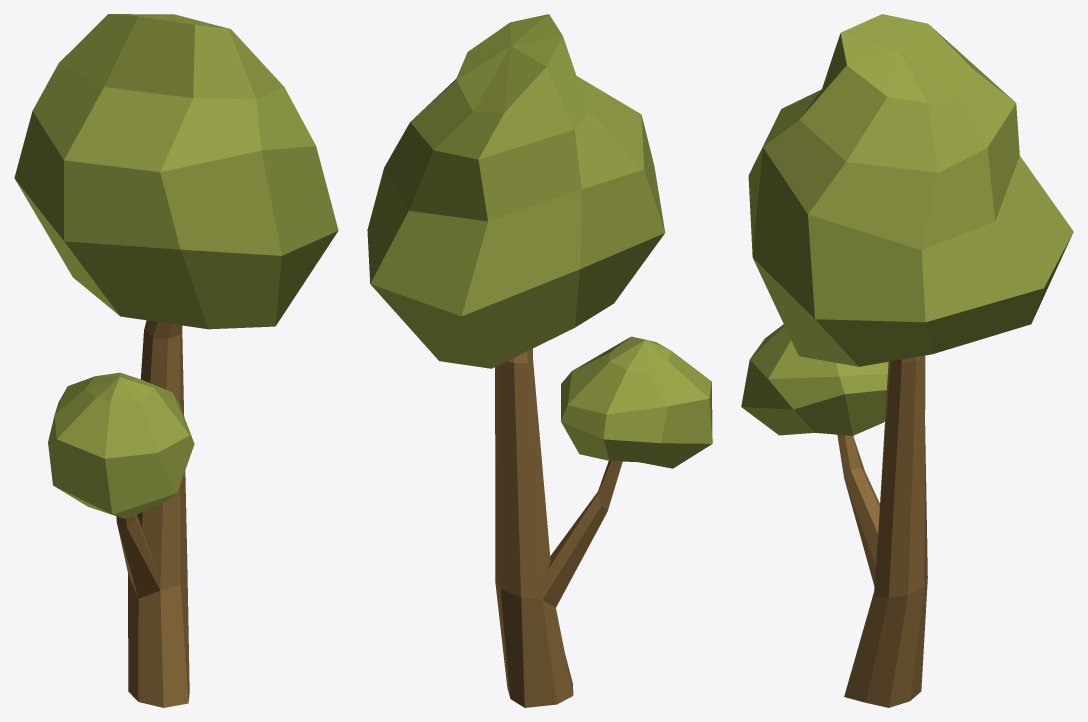
File: Tree_oak_1.fbx
The picture shows the model from 3 angles, left to right: view 1: azimuth 30°, elevation 25°; view 2: azimuth 150°, elevation 25°; view 3: azimuth 270°, elevation 25°; orthographic projection. The views are drawn at different scales.
Visible parts, largest first — view 1: Tree_oak_1; view 2: Tree_oak_1; view 3: Tree_oak_1.
Boxes of the visible parts, left/top/right/bottom form: Tree_oak_1: left=14, top=14, right=338, bottom=707; Tree_oak_1: left=367, top=14, right=712, bottom=707; Tree_oak_1: left=741, top=14, right=1073, bottom=707.
Bounding box in the file's own units: 0.2065 × 0.4501 × 0.2031.
